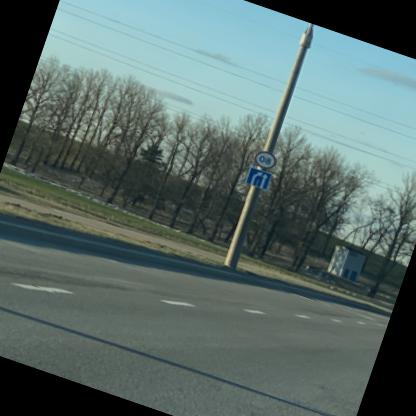speedlimit: (253, 149, 279, 172)
